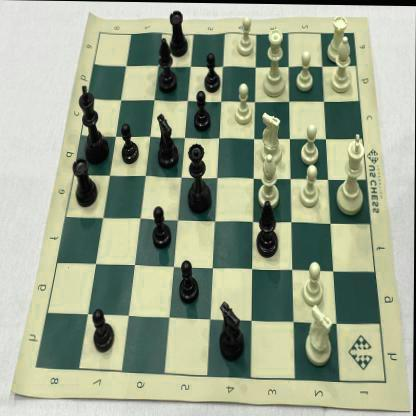black-bishop: (254, 196, 288, 258), (155, 34, 178, 96)
black-king: (76, 79, 111, 168)
black-pawn: (90, 305, 118, 356), (177, 254, 202, 307), (150, 202, 175, 251), (202, 46, 224, 95), (192, 84, 213, 134), (119, 120, 141, 167)
black-queen: (184, 140, 214, 215)
black-rook: (70, 154, 100, 212), (167, 8, 191, 60)
white-bishop: (328, 33, 356, 95), (254, 150, 282, 212)
white-king: (332, 127, 370, 218)
white-knight: (300, 303, 336, 368), (258, 107, 284, 164)
white-pawn: (301, 256, 329, 306), (297, 162, 323, 210), (298, 117, 322, 167), (233, 79, 256, 127), (294, 46, 316, 93), (235, 14, 256, 58)
white-queen: (260, 26, 290, 100)
white-rook: (324, 10, 350, 65)
